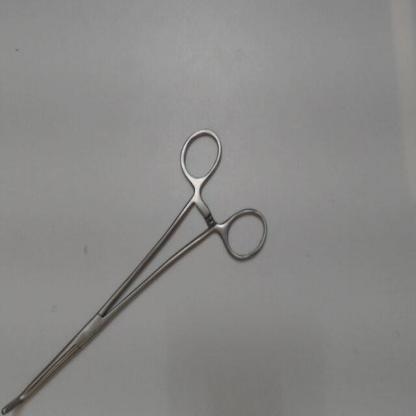Lahey Forceps: (1, 118, 274, 414)
